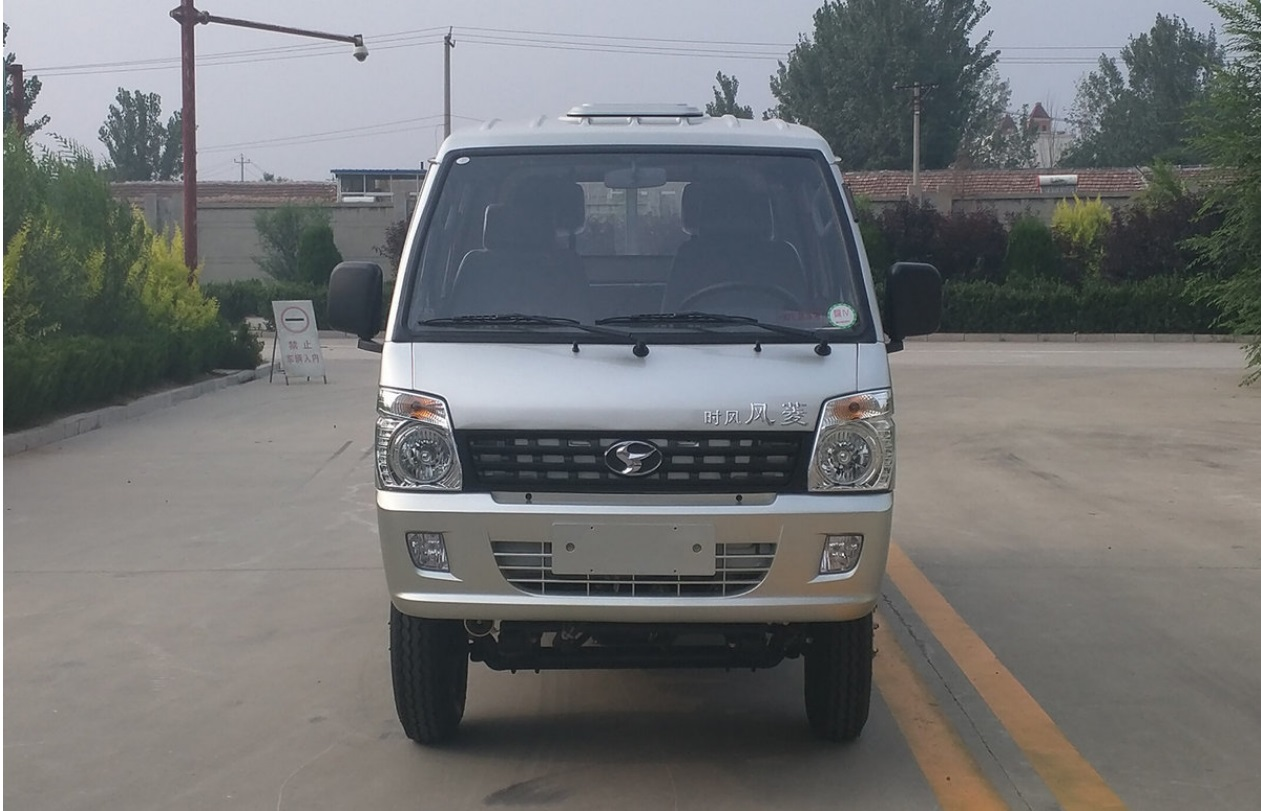truck: (323, 96, 947, 761)
